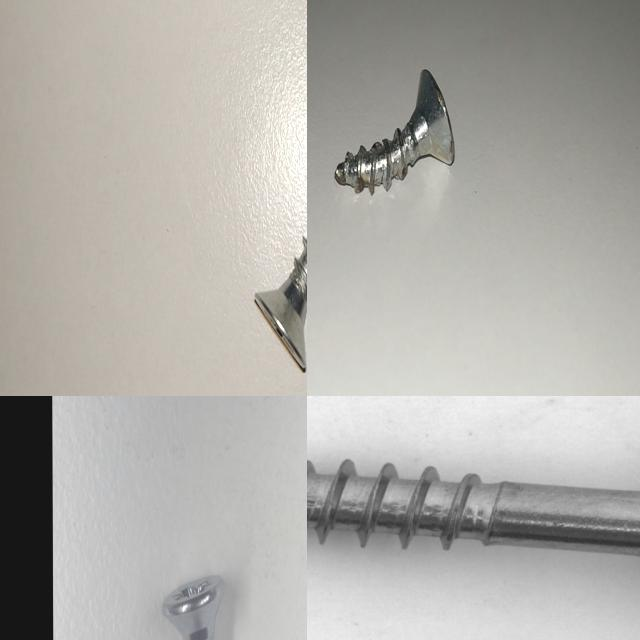Screw: (307, 410, 640, 632), (334, 69, 454, 193), (255, 237, 307, 371), (163, 575, 224, 640)
